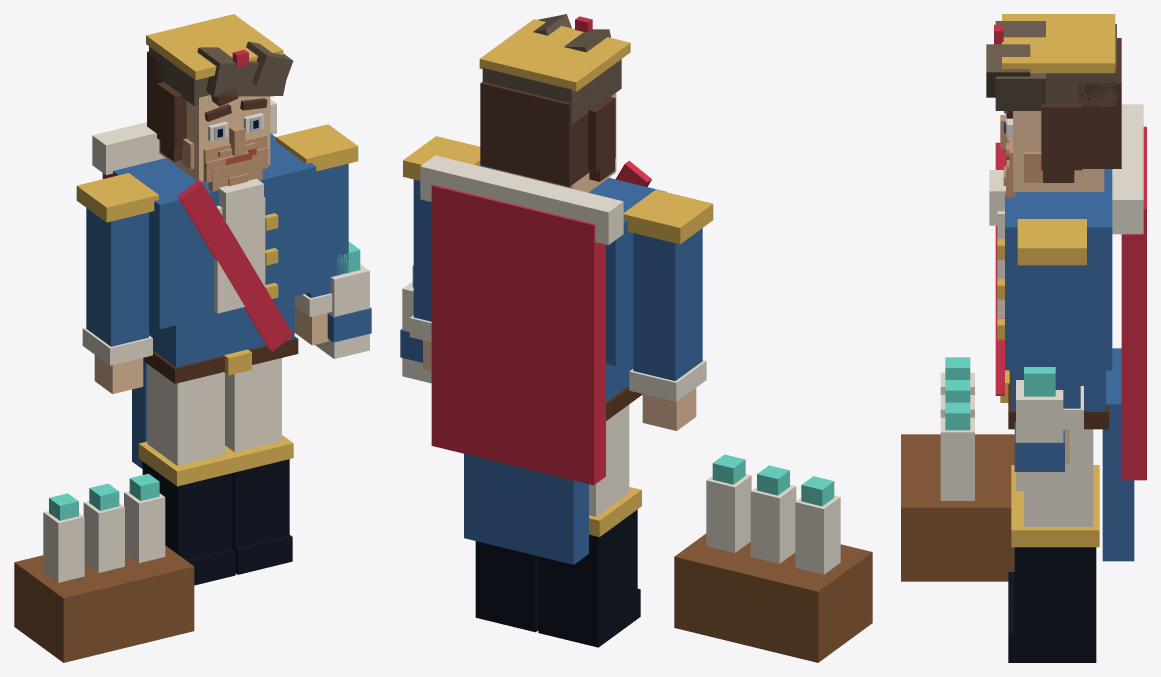
File: npc_mikhalych.glb
3 renders of one model, left to right at view 1: azimuth 30°, elevation 25°; view 2: azimuth 150°, elevation 25°; view 3: azimuth 270°, elevation 25°, orthographic. The views are drawn at different scales.
Parts seen in each view (by area): view 1: npc_mikhalych; view 2: npc_mikhalych; view 3: npc_mikhalych.
Boxes of the visible parts, left/top/right/bottom form: npc_mikhalych: left=14, top=14, right=371, bottom=662; npc_mikhalych: left=400, top=14, right=872, bottom=662; npc_mikhalych: left=901, top=14, right=1146, bottom=662.
Bounding box in the file's own units: 1.51 × 2.12 × 0.78.
Materials: 1 (1 with a texture image).
